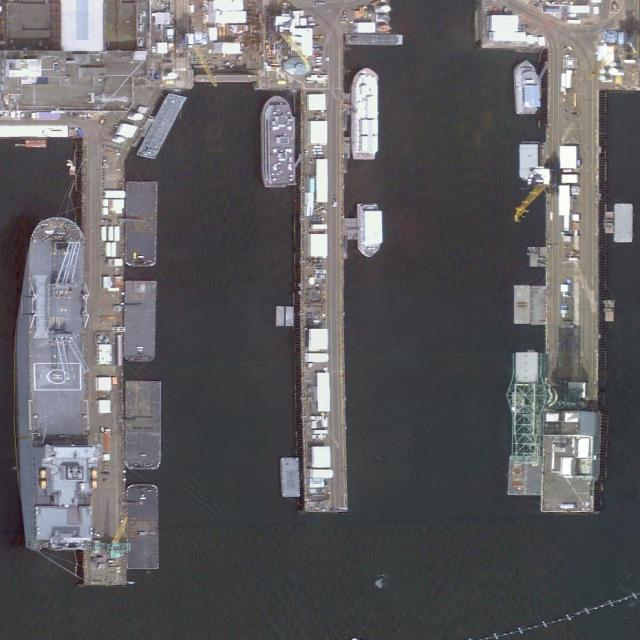Dock: (542, 45, 601, 510), (81, 137, 128, 585), (300, 88, 348, 511)
Other Ship: (263, 95, 296, 187), (352, 67, 381, 163), (515, 60, 542, 115), (359, 204, 383, 256)
RoRo: (13, 218, 94, 550)
